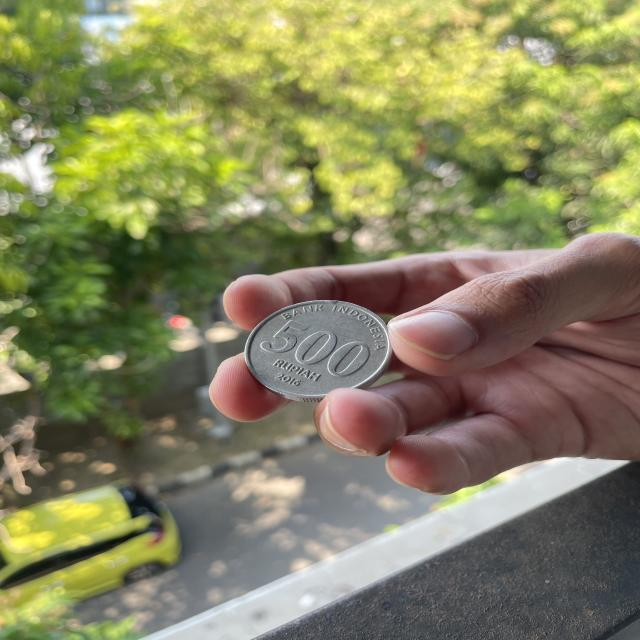500-silver: (244, 297, 410, 413)
